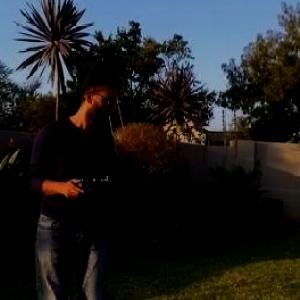follow: (24, 59, 125, 299)
